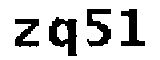1: (117, 7, 148, 50)
5: (83, 6, 114, 49)
q: (47, 17, 81, 58)
z: (10, 17, 43, 48)
